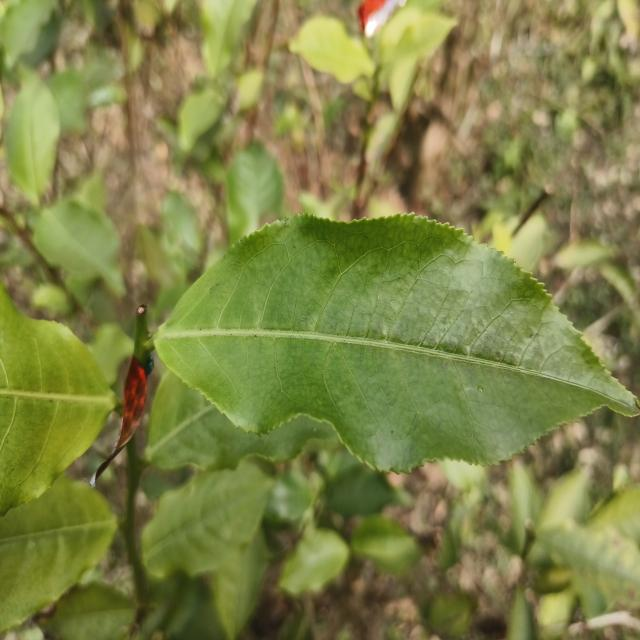Leaf: (155, 215, 640, 471), (0, 281, 117, 516), (145, 371, 338, 470), (0, 475, 117, 632), (142, 462, 272, 578), (34, 199, 125, 296), (538, 520, 640, 602), (4, 75, 60, 205), (212, 529, 267, 640), (226, 143, 283, 243), (289, 16, 374, 83), (37, 582, 135, 640), (279, 529, 349, 595), (381, 7, 457, 64), (202, 0, 256, 77), (351, 514, 420, 573), (326, 465, 399, 519), (0, 0, 53, 68), (161, 191, 202, 273), (178, 88, 223, 151), (265, 470, 313, 522), (555, 241, 615, 269), (506, 587, 535, 640)
